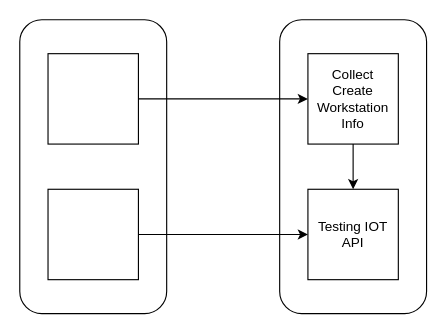
The diagram is 446 pixels wide and 333 high, and some of its shapes have lost their labels. Here are the shapes that lost their labels. From the top down, the centre of each, then its label:
point 92,98: Provide Workstation Column Format
point 92,234: Provide IOT API Spec
